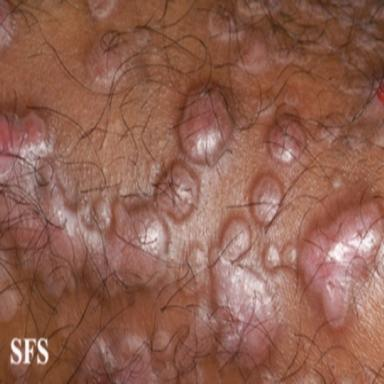Epidermolysis-Bullosa-Pruriginosa: (0, 108, 167, 320), (210, 1, 384, 147), (180, 214, 282, 366), (265, 203, 384, 328), (72, 308, 215, 383), (179, 88, 234, 165), (88, 29, 150, 91), (269, 80, 307, 163), (155, 161, 199, 220), (250, 174, 283, 225), (0, 0, 17, 49), (89, 0, 119, 21), (331, 172, 343, 190)
